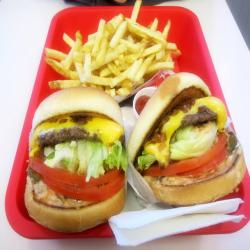burger: (16, 90, 138, 239), (123, 71, 250, 202)
fries: (43, 15, 182, 98)
